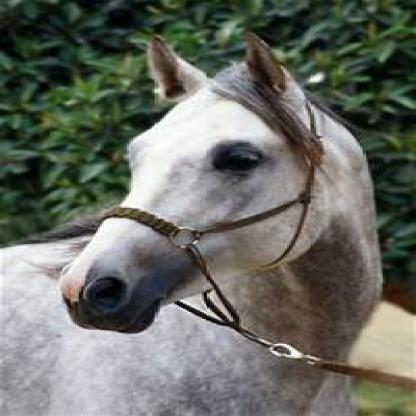horse: (2, 50, 389, 415)
